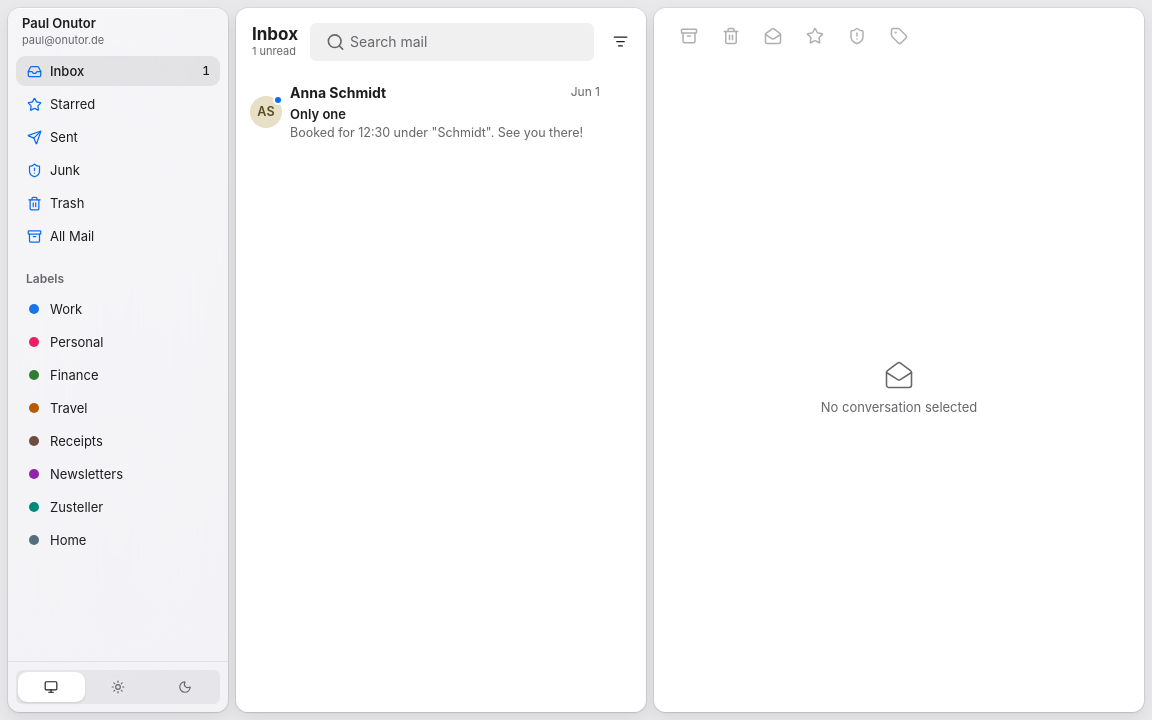
Test: odd mailbox contents › a single thread works end to end
The image size is (1152, 720).
Click the option. click: (266, 112)
box: [244,75,638,149]
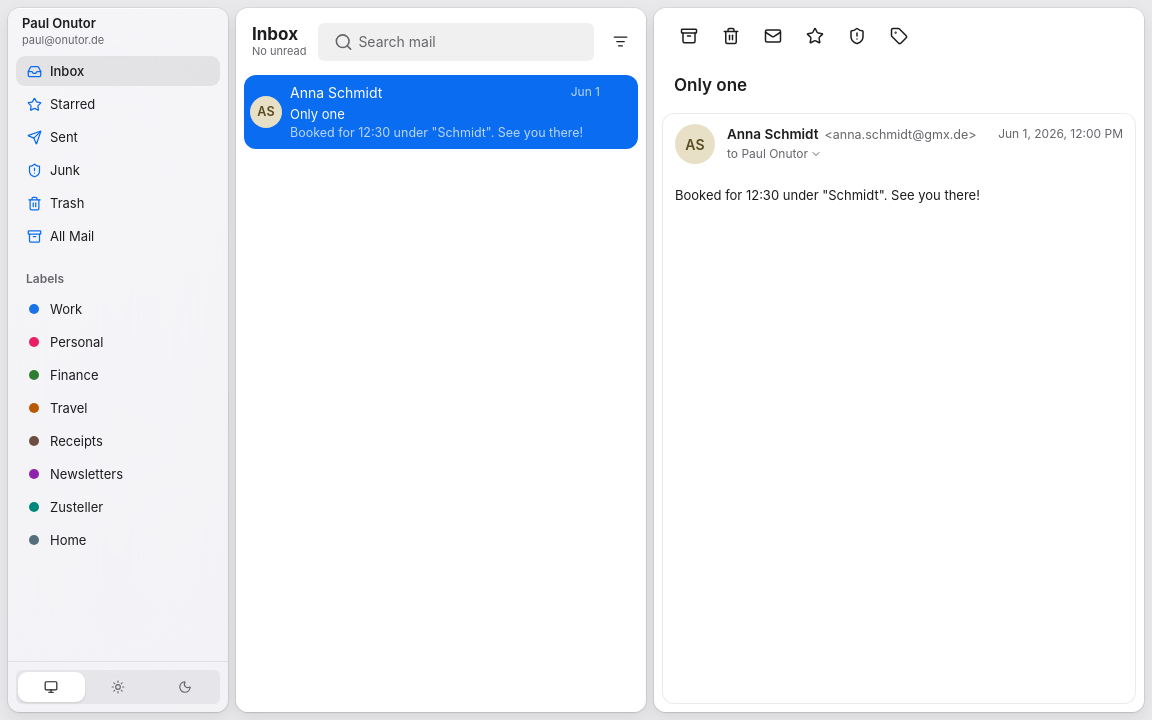
Click the button named "Archive". click: (689, 36)
box: [670,16,708,54]
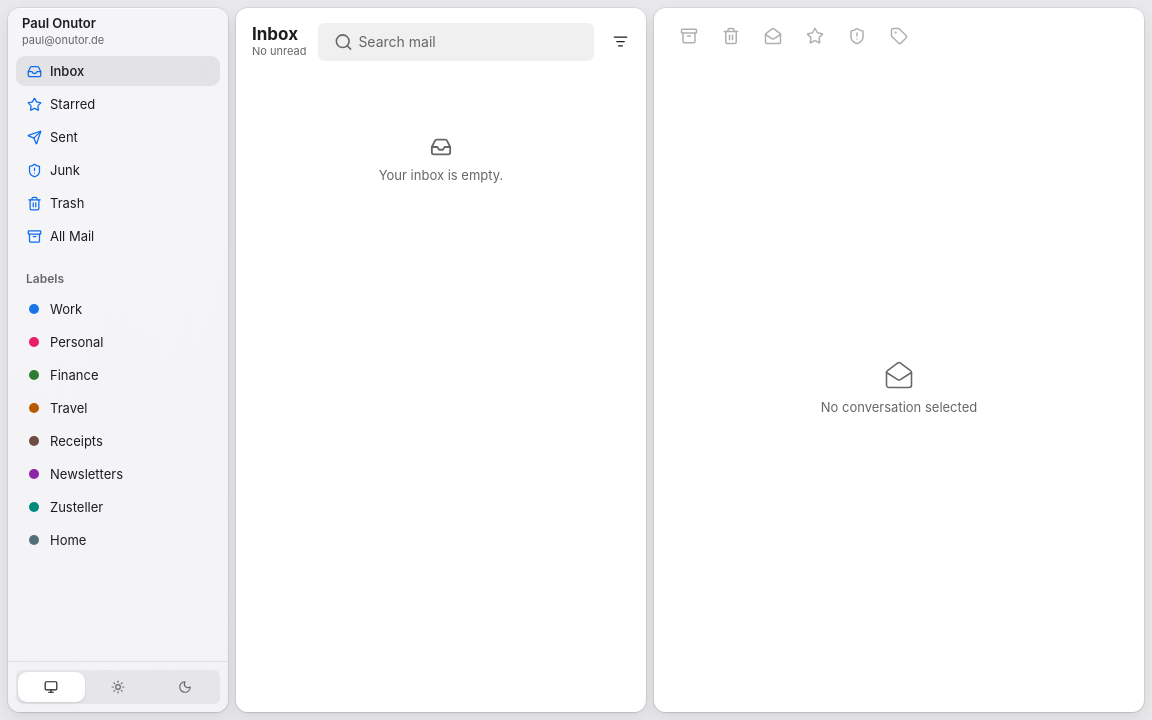
Check: the text "Your inbox is empty." is shown, box [379,166,503,184]
